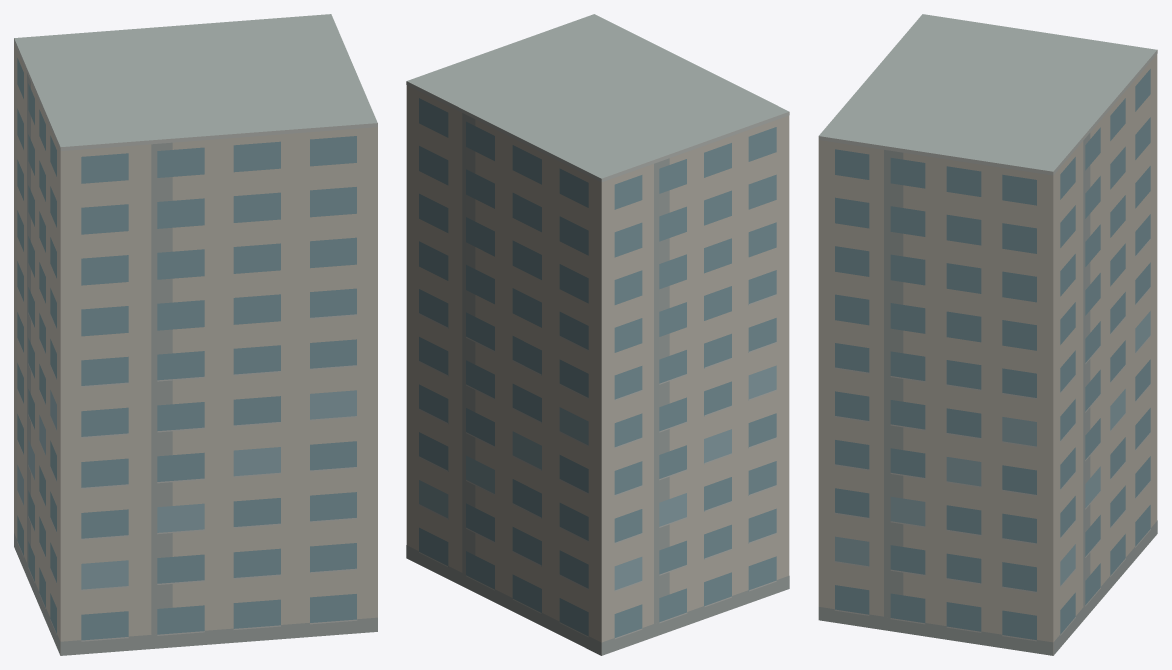
The model's file is residential-46ba0fab-54e7-4382-a50b-3d41f6eb50bc.glb.
3 renders of one model, left to right at view 1: azimuth 30°, elevation 25°; view 2: azimuth 150°, elevation 25°; view 3: azimuth 270°, elevation 25°, orthographic. The views are drawn at different scales.
Visible parts, largest first — view 1: residential-46ba0fab-54e7-4382-a50b-3d41f6eb50bc.tmp; view 2: residential-46ba0fab-54e7-4382-a50b-3d41f6eb50bc.tmp; view 3: residential-46ba0fab-54e7-4382-a50b-3d41f6eb50bc.tmp.
Boxes of the visible parts, bbox=[...] form: residential-46ba0fab-54e7-4382-a50b-3d41f6eb50bc.tmp: bbox=[14, 14, 377, 655]; residential-46ba0fab-54e7-4382-a50b-3d41f6eb50bc.tmp: bbox=[406, 14, 789, 655]; residential-46ba0fab-54e7-4382-a50b-3d41f6eb50bc.tmp: bbox=[818, 14, 1157, 655].
Bounding box in the file's own units: 21.66 × 31 × 19.67.
